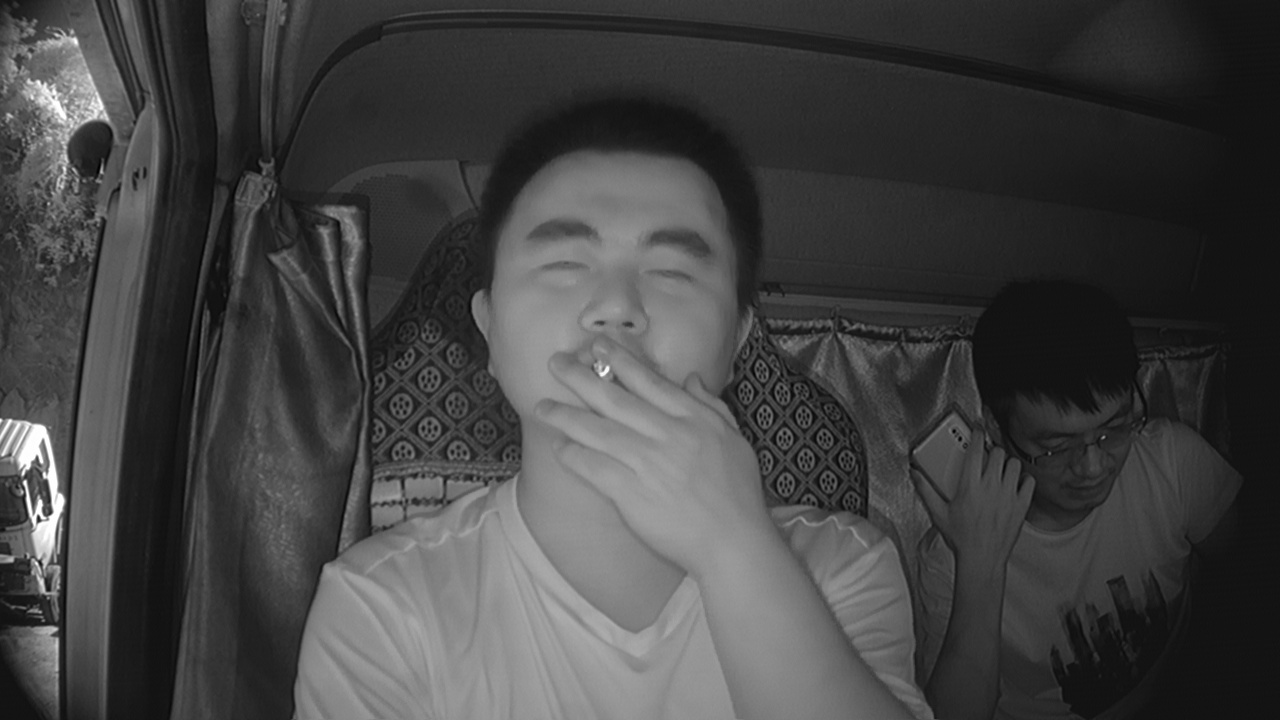hand: (539, 342, 738, 557)
